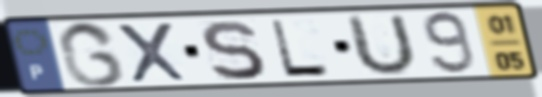9: (423, 9, 481, 77)
G: (55, 19, 129, 90)
L: (266, 17, 335, 78)
S: (197, 18, 268, 83)
U: (345, 12, 419, 79)
X: (111, 20, 192, 85)
